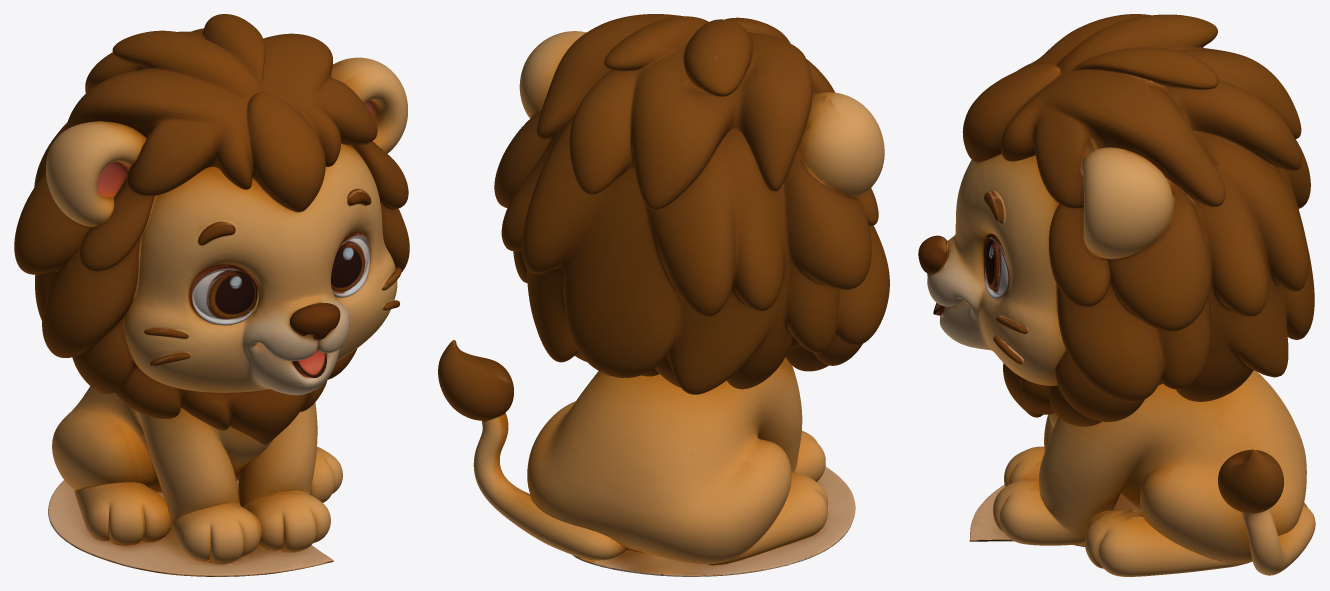
File: Lion.glb
3 renders of one model, left to right at view 1: azimuth 30°, elevation 25°; view 2: azimuth 150°, elevation 25°; view 3: azimuth 270°, elevation 25°, orthographic. The views are drawn at different scales.
Parts seen in each view (by area): view 1: texture_pbr_v128; view 2: texture_pbr_v128; view 3: texture_pbr_v128.
Boxes of the visible parts, x1,y1,x2,y2 form: texture_pbr_v128: (14, 14, 409, 576); texture_pbr_v128: (438, 14, 889, 576); texture_pbr_v128: (918, 14, 1315, 576).
Size of the model in its own units: 0.8045 by 0.9751 by 0.7171.
Materials: 1 (1 with a texture image).
